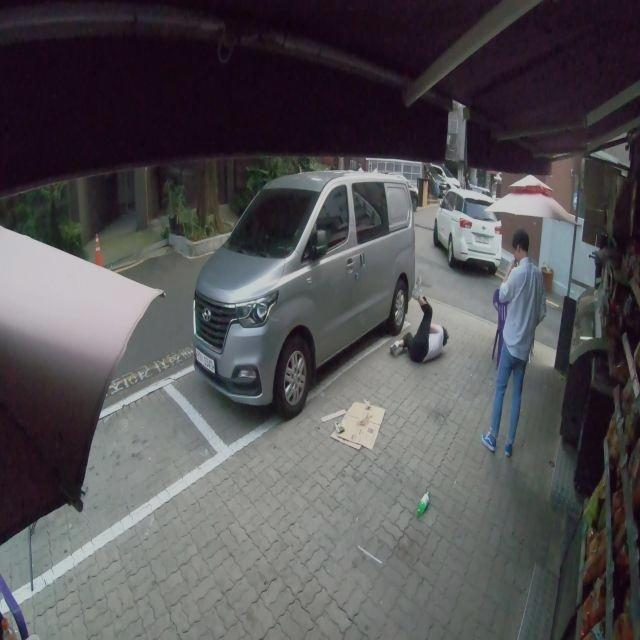non-fight: (484, 231, 547, 458), (387, 274, 450, 363)
